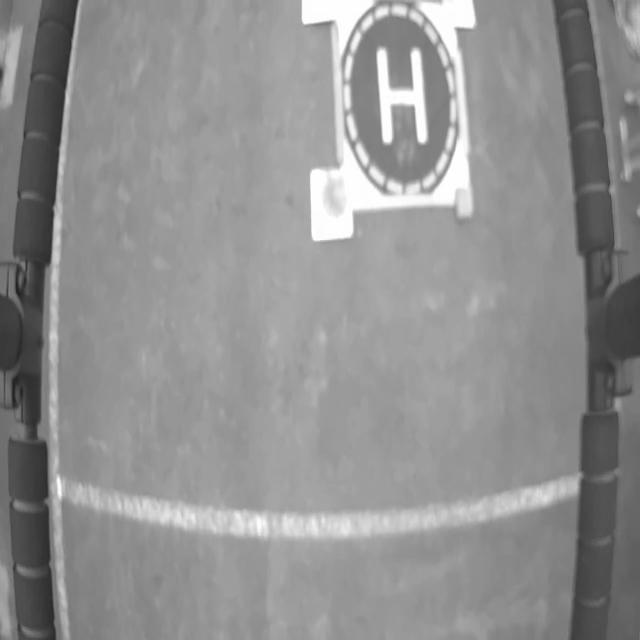Helipad: (376, 46, 431, 149)
